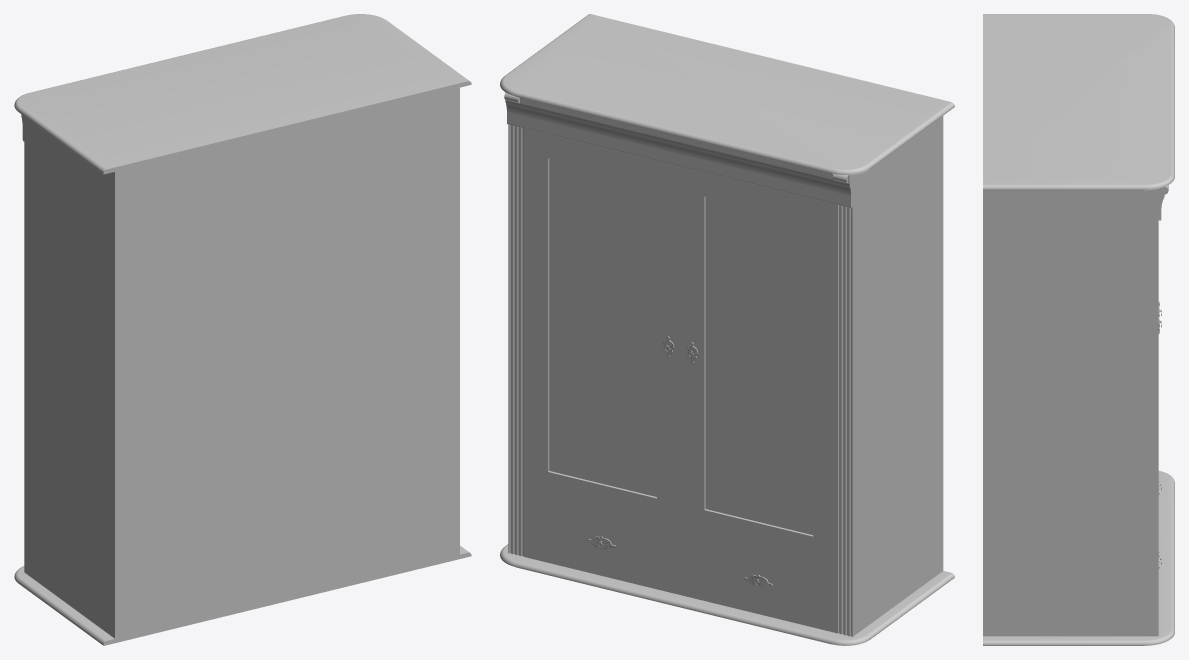
3 renders of one model, left to right at view 1: azimuth 30°, elevation 25°; view 2: azimuth 150°, elevation 25°; view 3: azimuth 270°, elevation 25°, orthographic. The views are drawn at different scales.
Visible parts, largest first — view 1: mesh1_mesh1-geometry; view 2: mesh1_mesh1-geometry; view 3: mesh1_mesh1-geometry.
Part boxes in pixels (x1=…): mesh1_mesh1-geometry: x1=14, y1=14, x2=471, y2=645; mesh1_mesh1-geometry: x1=500, y1=14, x2=954, y2=645; mesh1_mesh1-geometry: x1=983, y1=14, x2=1174, y2=645.
Size of the model in its own units: 0.6036 by 0.7457 by 0.2821.
